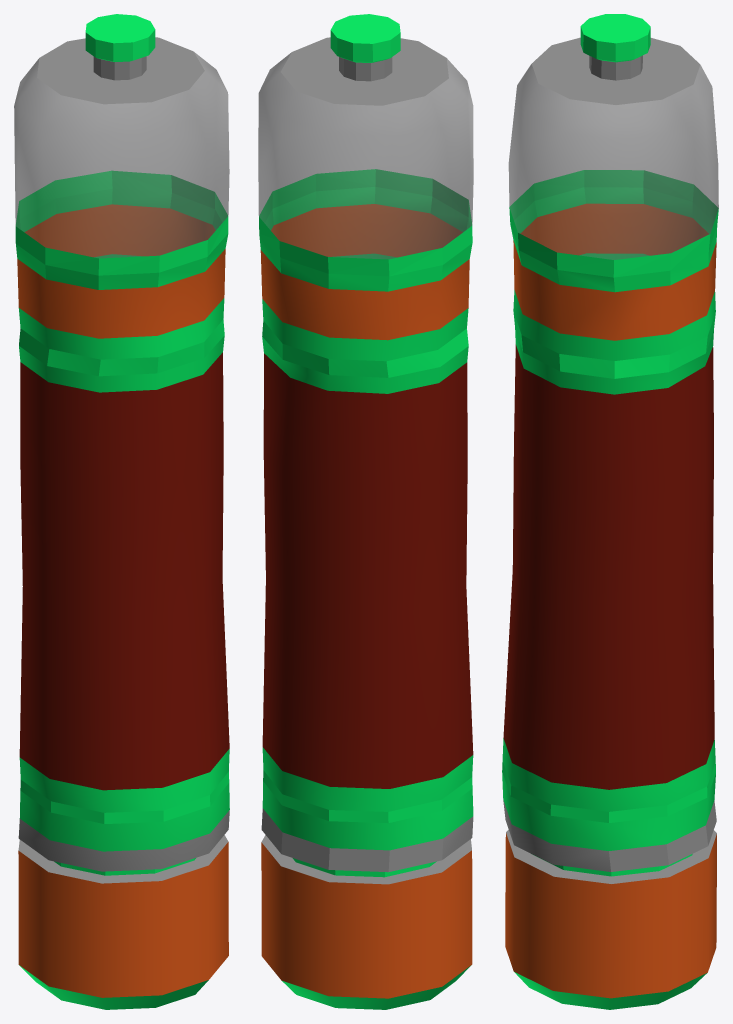
The model's file is BOTTEL.FBX.
3 renders of one model, left to right at view 1: azimuth 30°, elevation 25°; view 2: azimuth 150°, elevation 25°; view 3: azimuth 270°, elevation 25°, orthographic.
Visible parts, largest first — view 1: Cylinder003; view 2: Cylinder003; view 3: Cylinder003.
Part boxes in pixels (x1,y1,x2,y2): Cylinder003: (14,14,229,1009); Cylinder003: (258,14,473,1009); Cylinder003: (502,14,718,1009).
Bounding box in the file's own units: 139 × 665 × 138.
